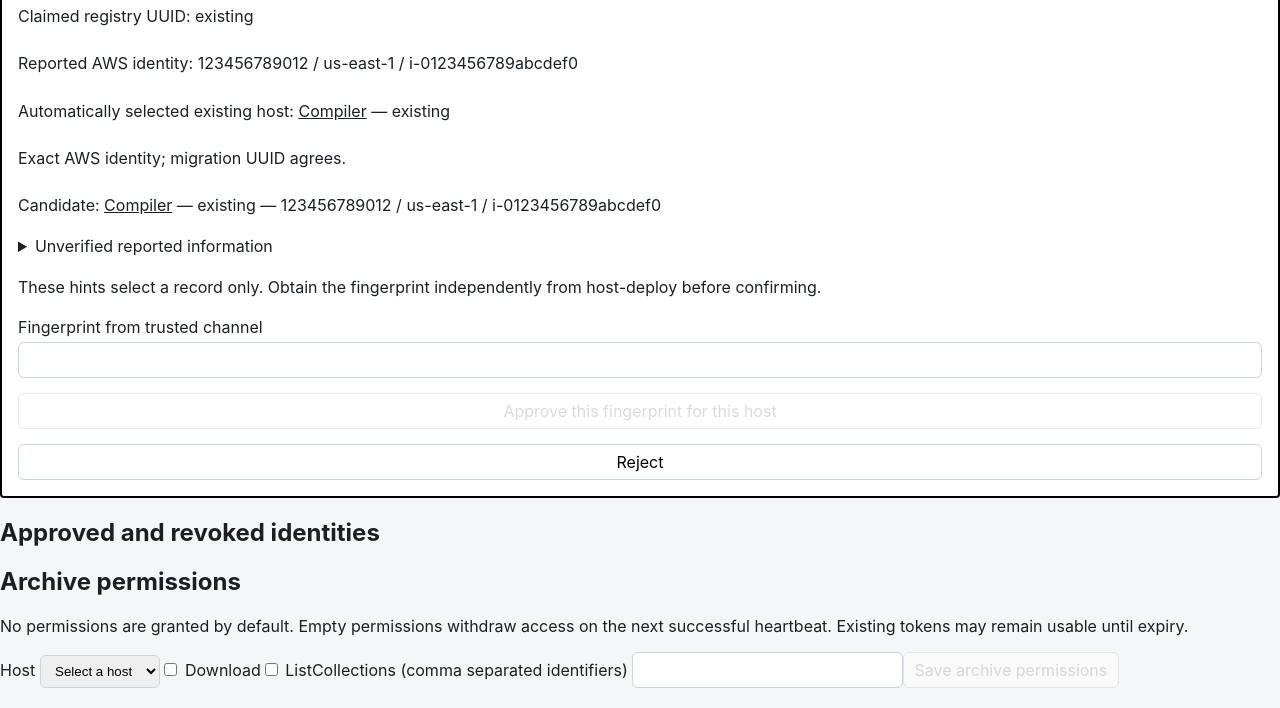
changed match resets trusted-channel confirmation
This screenshot has width=1280, height=708.
(page scrolled)
Type "aaaaaaaaaaaaaaaaaaaaaaaaaaaaaaaaaaaaaaaaaaaaaaaaaaaaaaaaaaaaaaaa" into the field labelled "Fingerprint from trusted channel" at [640, 360], box [18,342,1262,378]
(page scrolled)
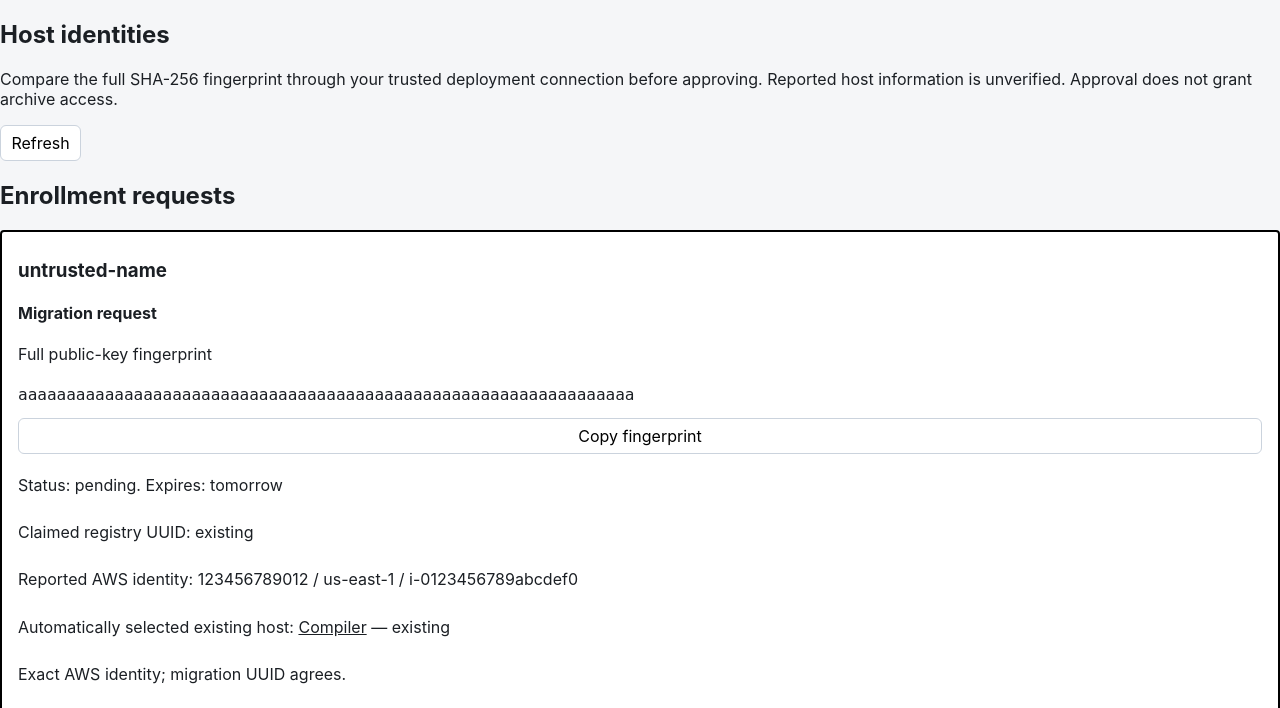
Click the button "Refresh" at [41, 143], box [0,125,81,161]
(page scrolled)
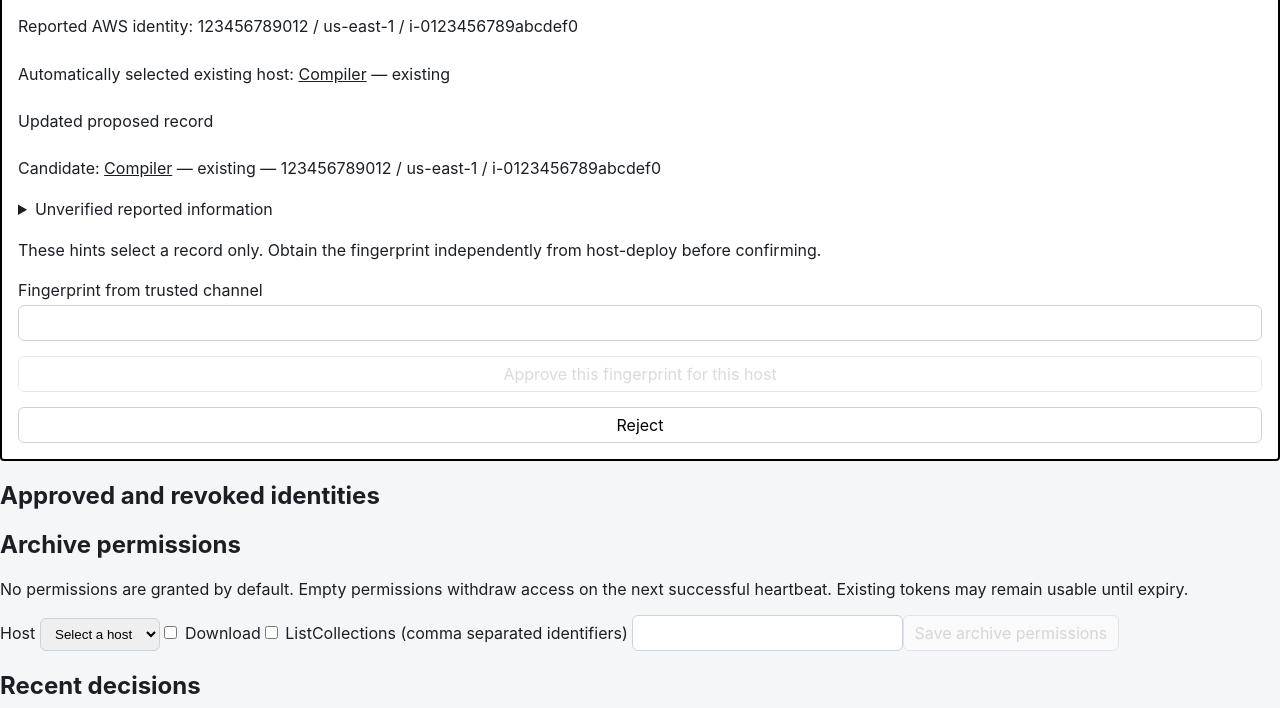
Check: the text "Updated proposed record" is shown, box [18,111,213,131]
Check: the button "Approve this fingerprint for this host" is disabled, box [18,356,1262,392]
